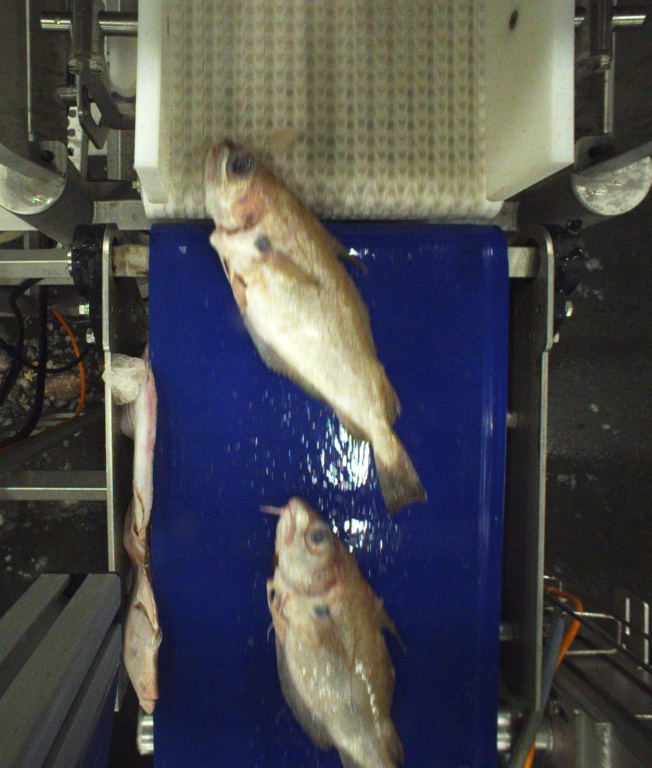BIB: (203, 140, 425, 518)
